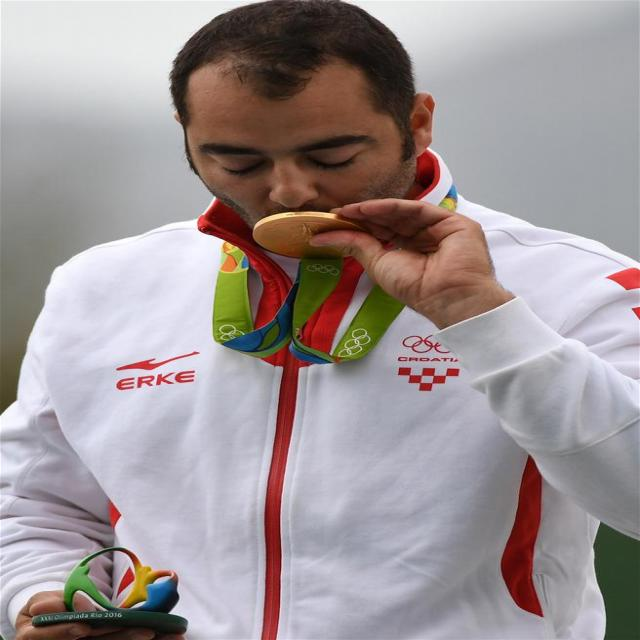nomask: (193, 64, 398, 243)
